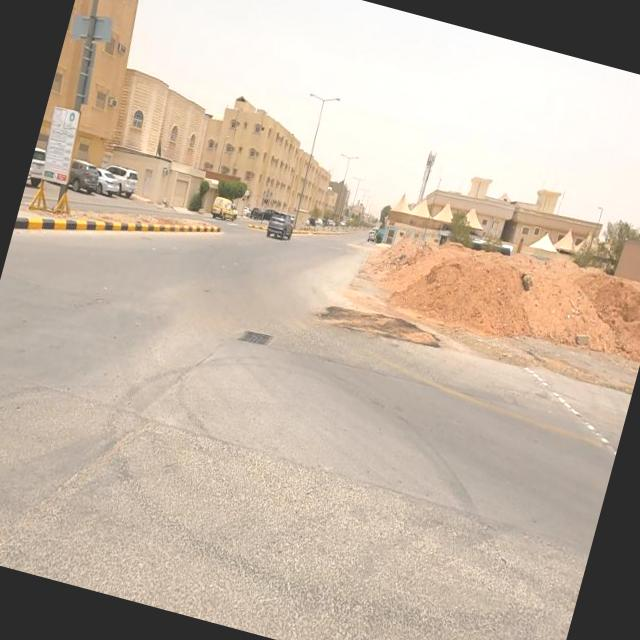debris: (12, 44, 135, 254)
